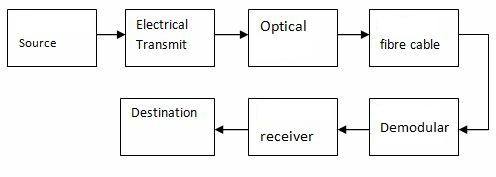arrow: (457, 31, 491, 136), (213, 29, 249, 41), (214, 123, 249, 135), (335, 124, 370, 135), (337, 29, 368, 40), (93, 29, 127, 39)
process: (117, 95, 218, 158), (244, 7, 340, 69), (246, 95, 340, 158), (4, 7, 99, 69), (123, 7, 218, 69), (367, 96, 460, 159), (367, 7, 461, 69)
text: (134, 17, 189, 51), (378, 121, 450, 134), (378, 37, 440, 52), (129, 106, 199, 119), (258, 129, 314, 143), (258, 19, 308, 34), (17, 37, 56, 49)
